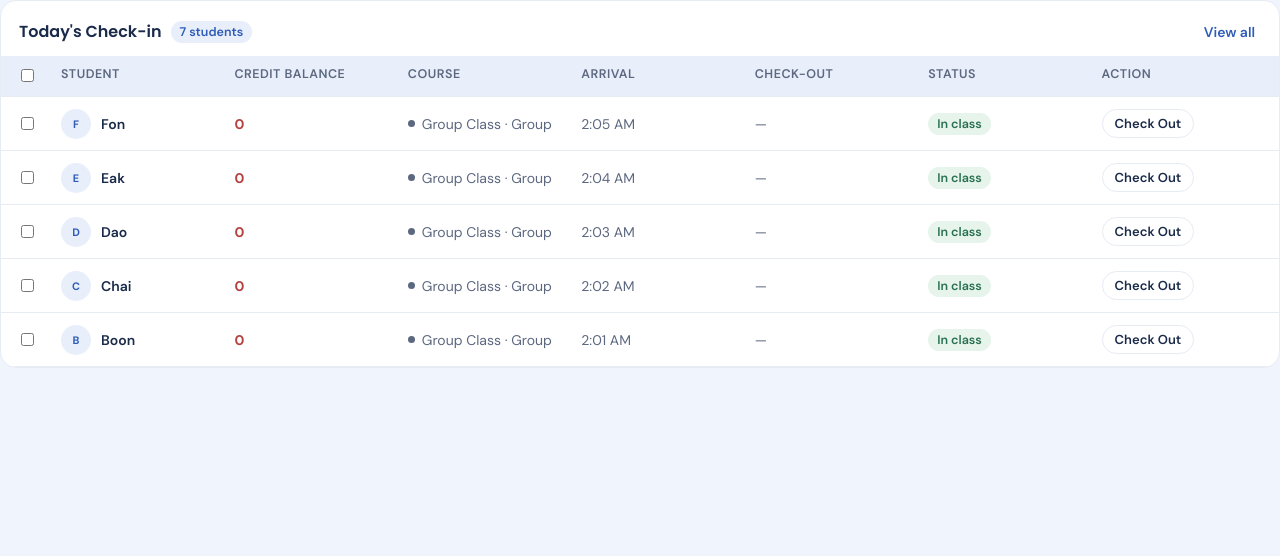
Test: selecting who goes home › ticks everyone still in class, and nobody who has already gone
This screenshot has width=1280, height=556.
Expected: the text "Fon" is shown, [101,114,125,132]
Click the checkbox named "Select everyone still in class". click: x=28, y=76
box: [21,69,34,82]
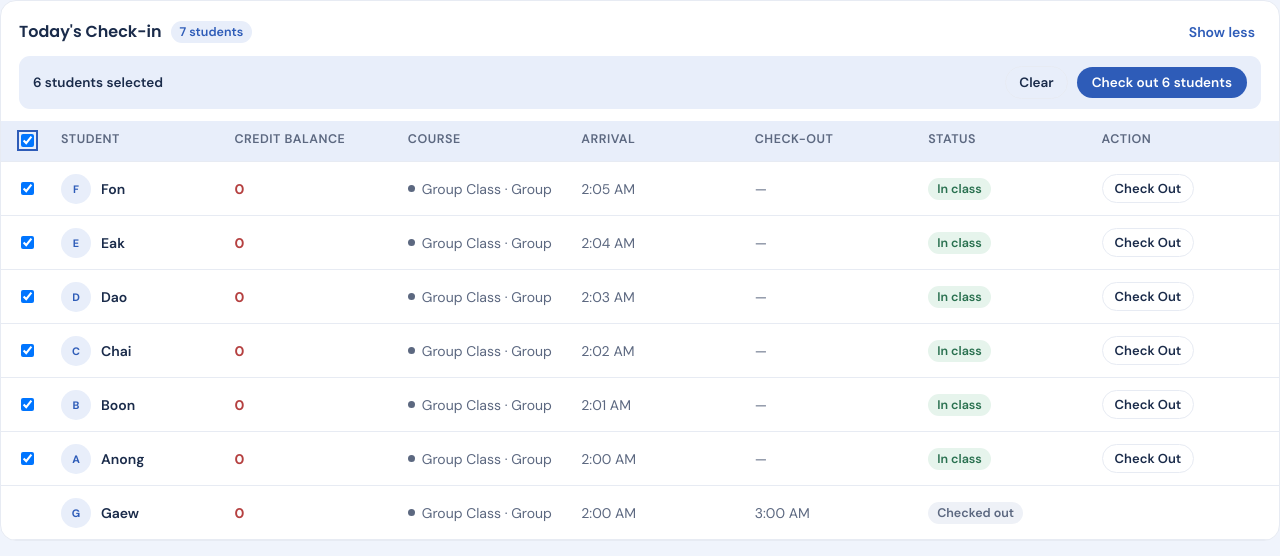
Now the text "6 students selected" is shown, box [33,74,163,91]
